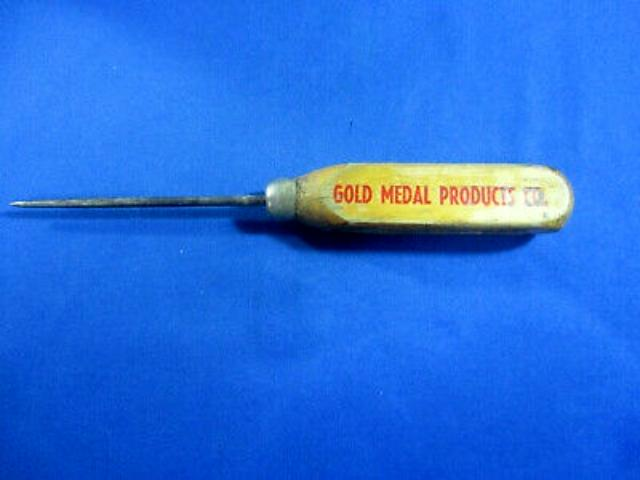ice pick: (12, 163, 574, 233)
